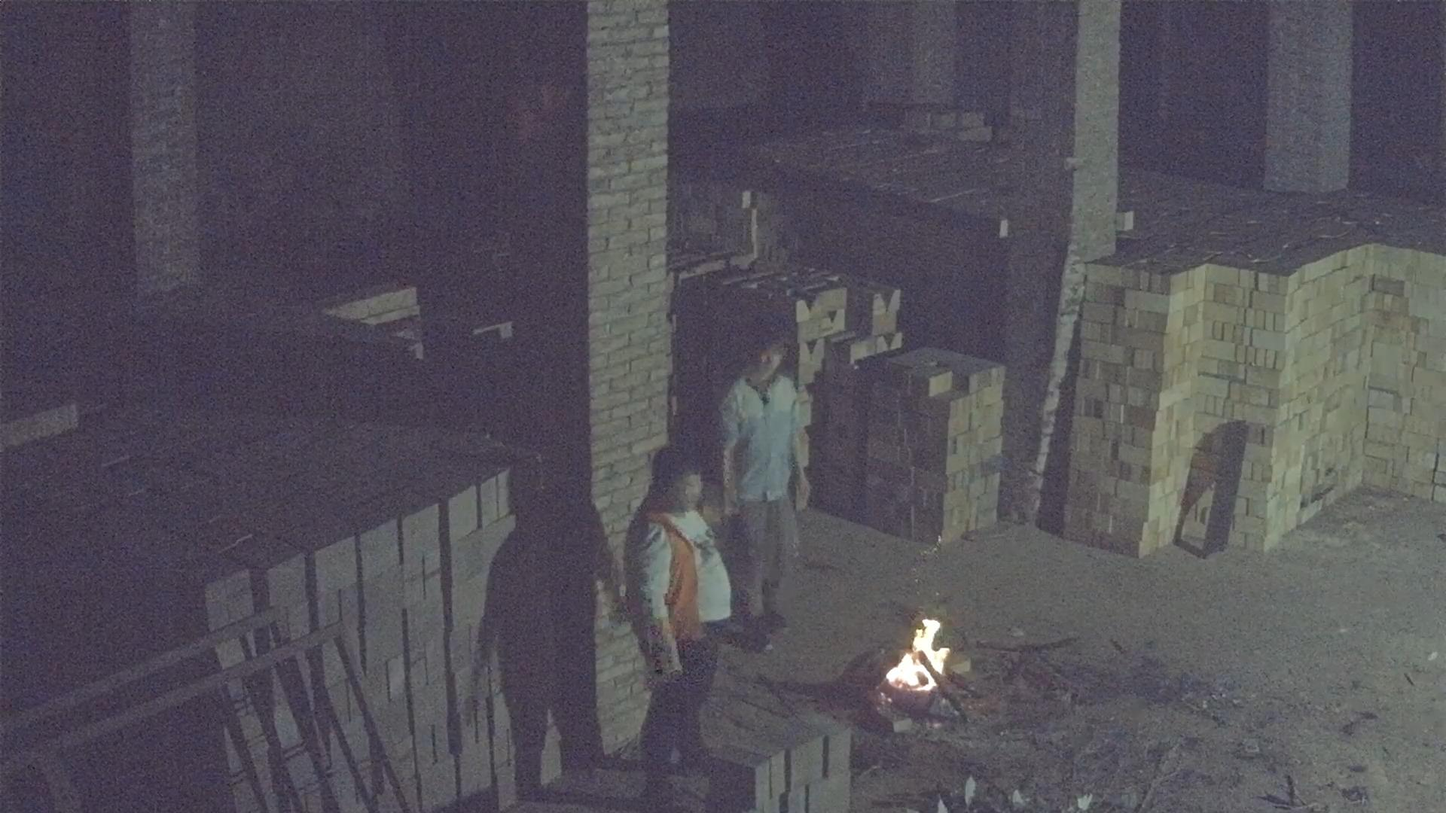fire: (884, 619, 950, 697)
